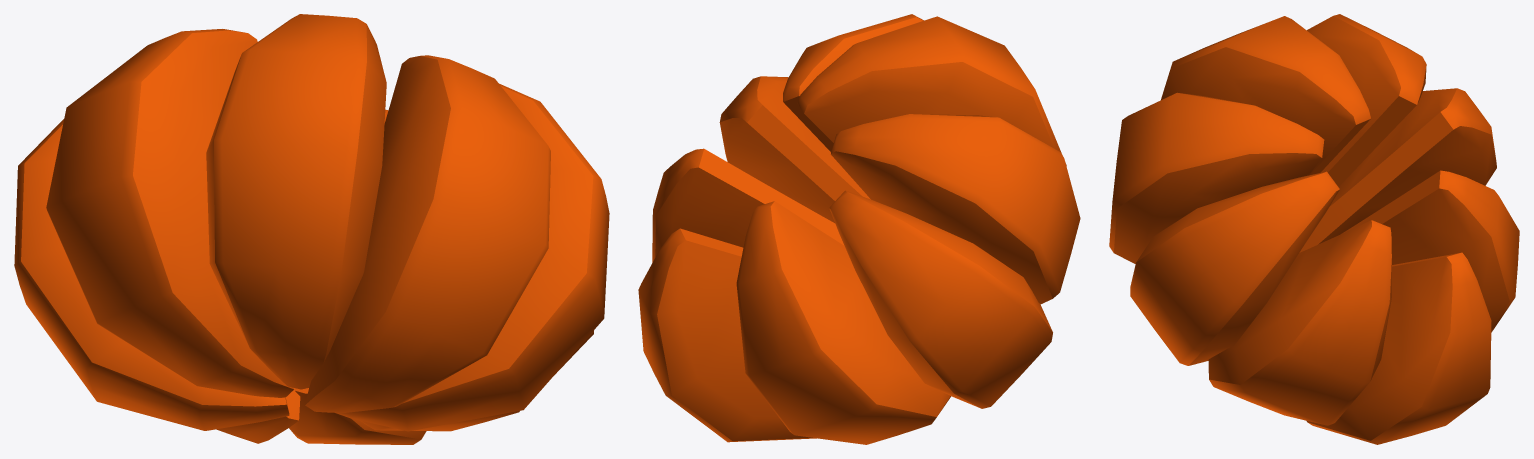
The model's file is p_mesh_hvs_lemonium_part05.fbx.
3 views of the same model, side by side, from view 1: azimuth 30°, elevation 25°; view 2: azimuth 150°, elevation 25°; view 3: azimuth 270°, elevation 25° (orthographic). The views are drawn at different scales.
Visible parts, largest first — view 1: p_harvests_lemonium_part05; view 2: p_harvests_lemonium_part05; view 3: p_harvests_lemonium_part05.
Boxes of the visible parts, box(x1,y1,x2,y2) form: p_harvests_lemonium_part05: box(14, 14, 609, 444); p_harvests_lemonium_part05: box(638, 14, 1080, 444); p_harvests_lemonium_part05: box(1109, 14, 1519, 444).
Size of the model in its own units: 5.46 by 4.71 by 4.96.
